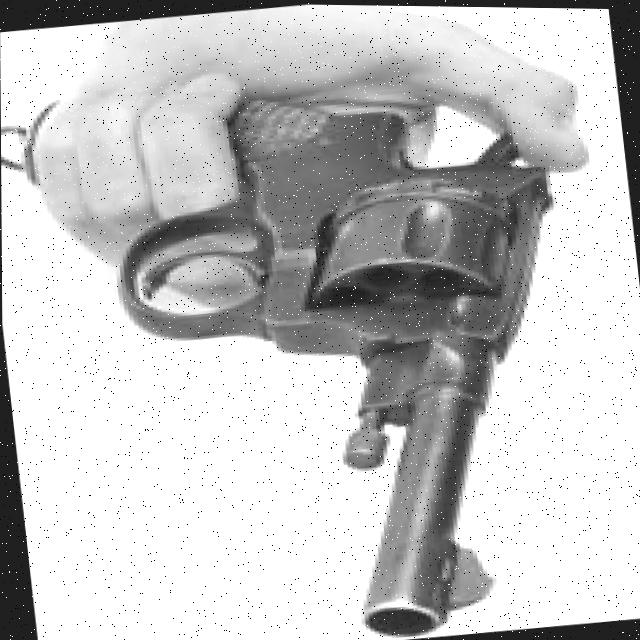pistol: (95, 67, 606, 640)
